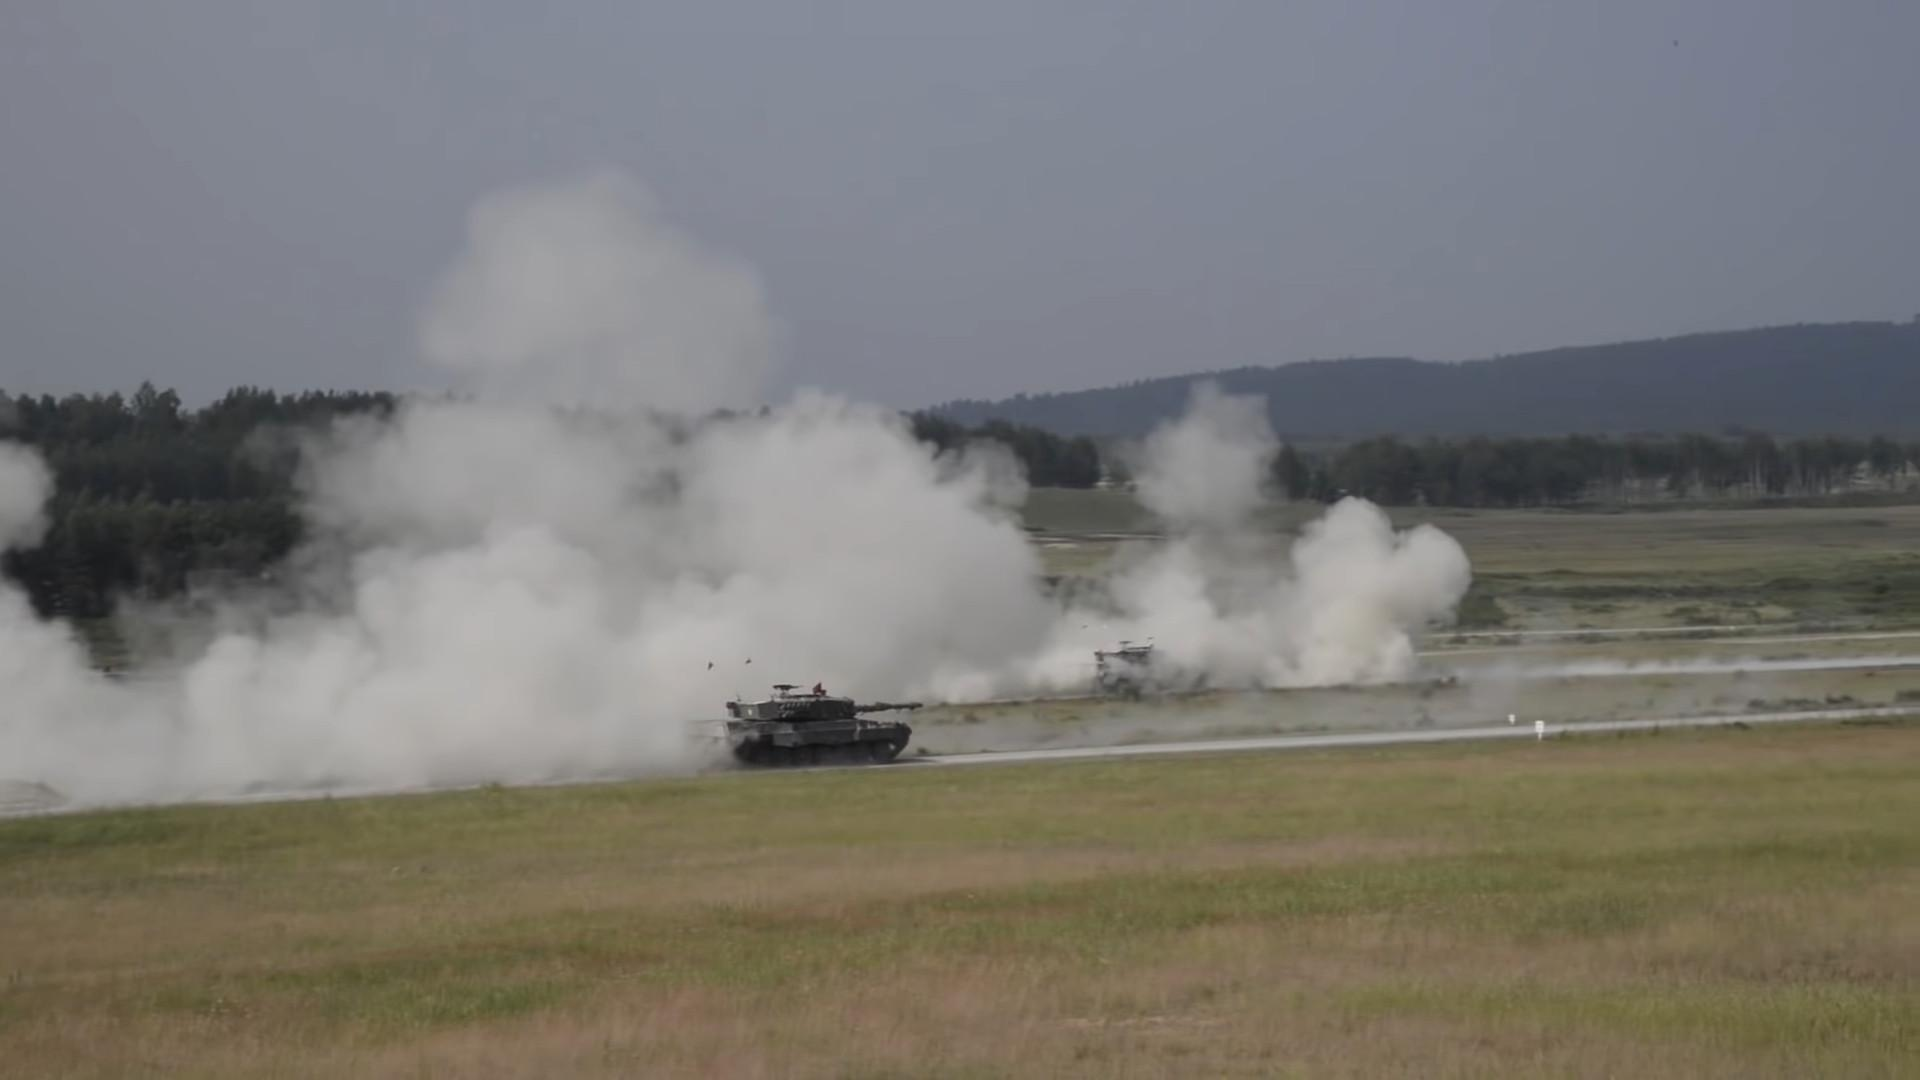tank: (727, 695, 923, 769)
